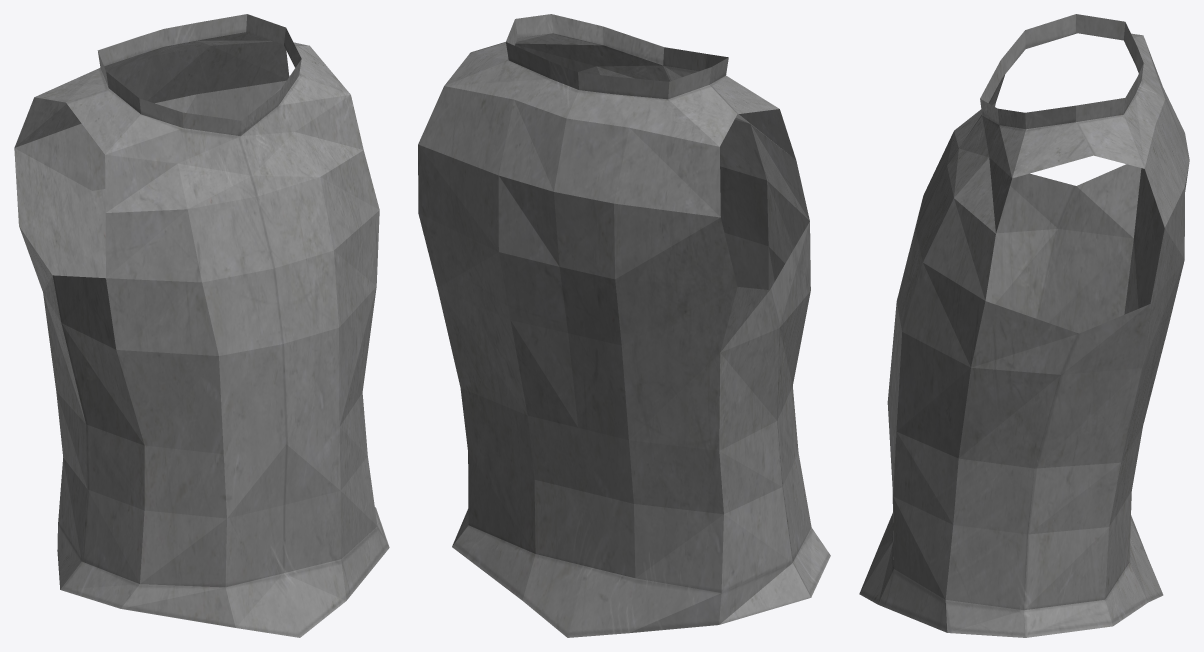
The model's file is knightsBreastplate.fbx.
3 renders of one model, left to right at view 1: azimuth 30°, elevation 25°; view 2: azimuth 150°, elevation 25°; view 3: azimuth 270°, elevation 25°, orthographic. The views are drawn at different scales.
Visible parts, largest first — view 1: breatPLate; view 2: breatPLate; view 3: breatPLate.
Boxes of the visible parts, x1,y1,x2,y2 form: breatPLate: [14, 14, 389, 637]; breatPLate: [418, 14, 830, 637]; breatPLate: [859, 14, 1189, 637].
Size of the model in its own units: 39.33 by 61.45 by 34.36.
1 material, 1 textured.
